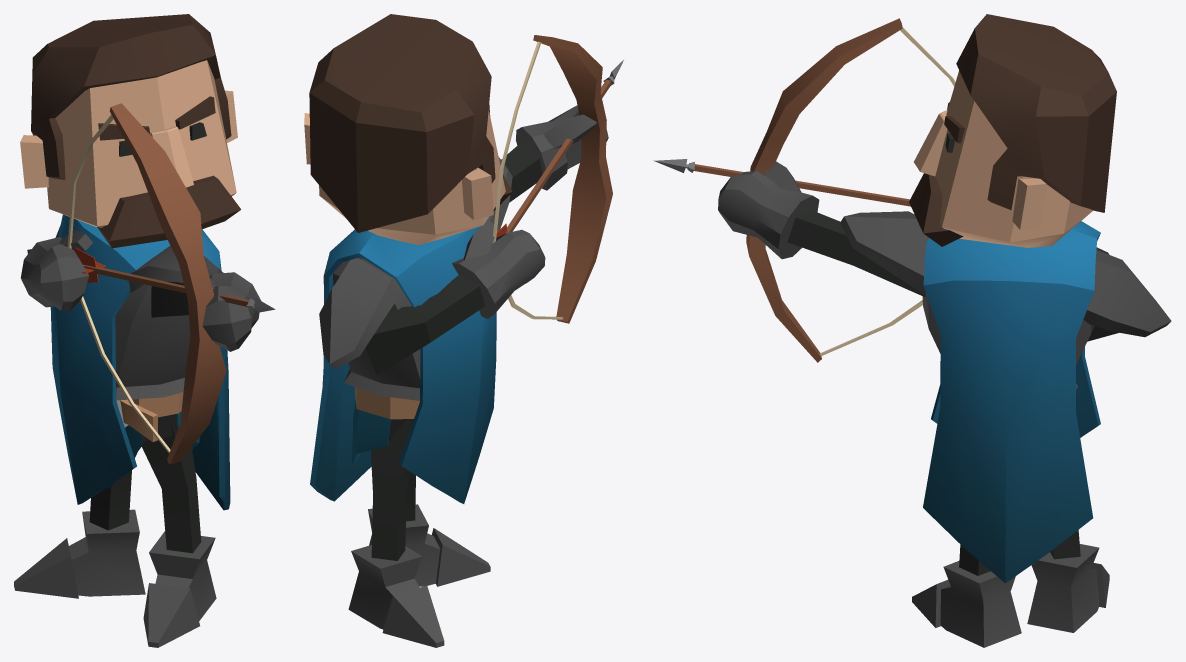
File: Warrior_9.fbx
The picture shows the model from 3 angles, left to right: view 1: azimuth 30°, elevation 25°; view 2: azimuth 150°, elevation 25°; view 3: azimuth 270°, elevation 25°; orthographic projection. The views are drawn at different scales.
Visible parts, largest first — view 1: Warrior_9; view 2: Warrior_9; view 3: Warrior_9.
Boxes of the visible parts, <box> form: Warrior_9: <box>14,14,275,647</box>; Warrior_9: <box>304,14,623,647</box>; Warrior_9: <box>653,14,1171,647</box>.
Size of the model in its own units: 48.74 by 123 by 98.63.
